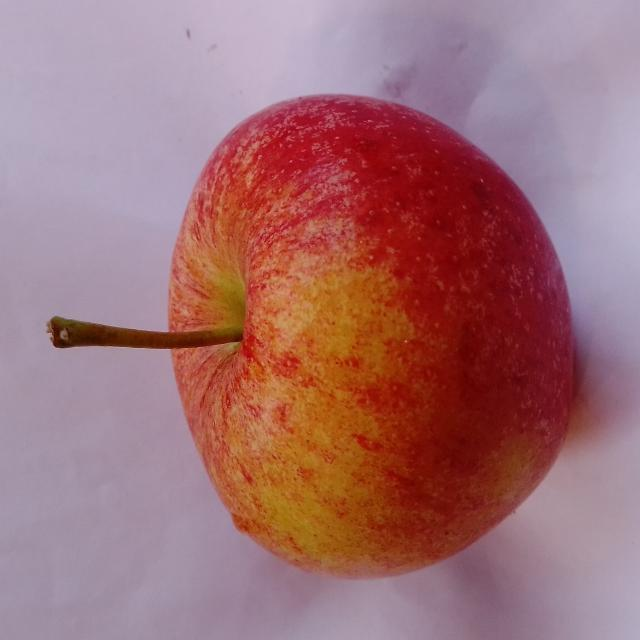Fresh Apple: (178, 95, 562, 575)
